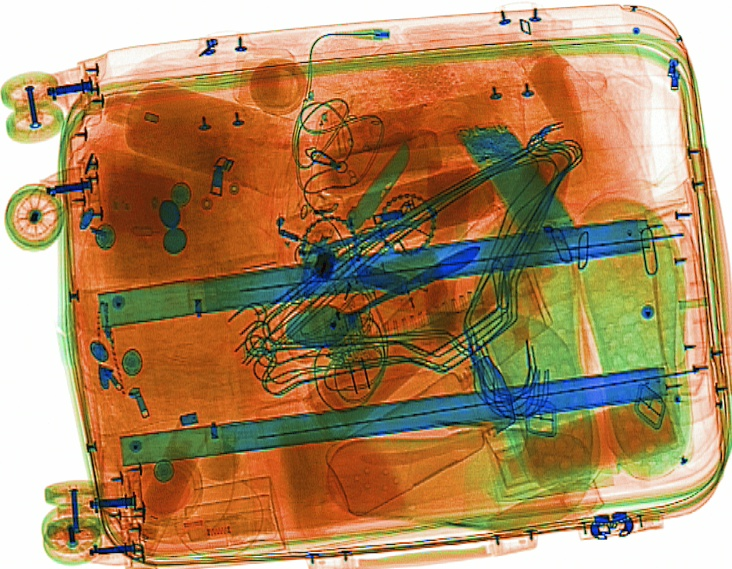knife: (338, 134, 416, 234)
